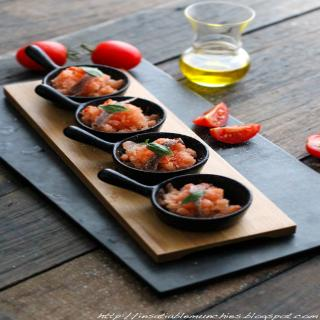tomato: (83, 36, 148, 65), (15, 38, 68, 72), (211, 122, 263, 145), (192, 101, 228, 128), (305, 134, 320, 156)
